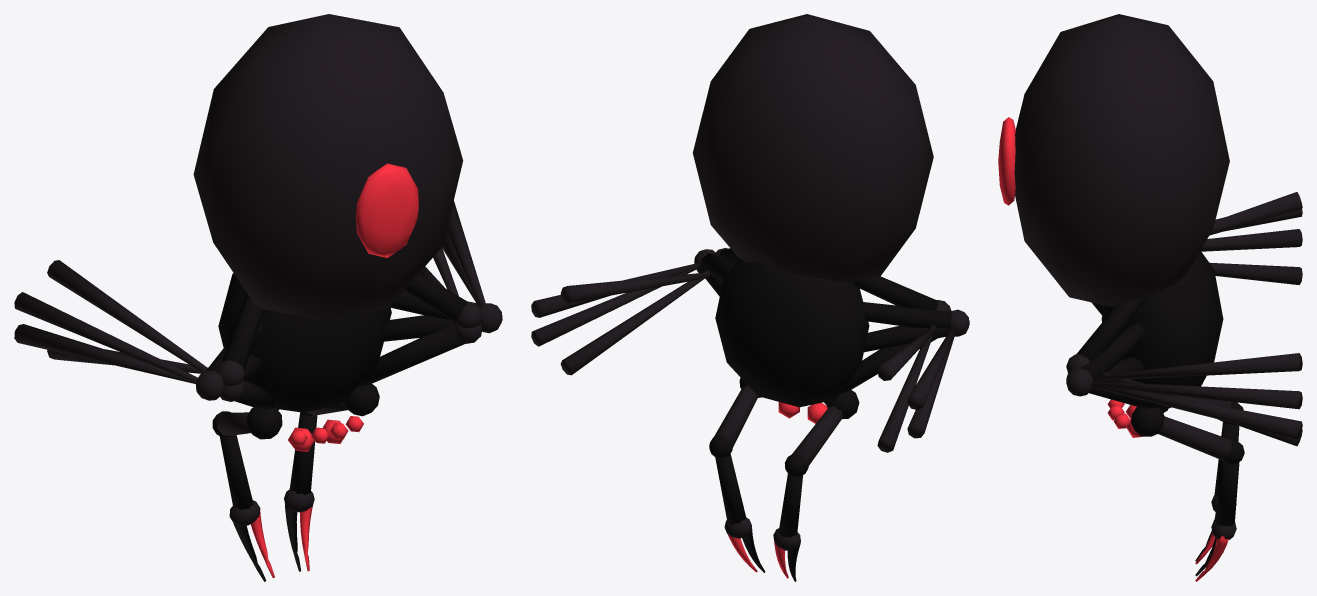
Rendered from shooter-arachnid.glb.
3 views of the same model, side by side, from view 1: azimuth 30°, elevation 25°; view 2: azimuth 150°, elevation 25°; view 3: azimuth 270°, elevation 25° (orthographic). The views are drawn at different scales.
Visible parts, largest first — view 1: Body Mesh, ClawR Elbow Mesh, ClawL Elbow Mesh, LegB 0 Down Mesh, LegA 2 Down Mesh, LegB 4 Down Mesh, LegA 1 Mesh, ClawR Mesh, LegA 6 Mesh, LegB 7 Mesh, Head Mesh, LegB 3 Mesh (+5 smaller); view 2: Body Mesh, ClawL Elbow Mesh, ClawR Elbow Mesh, LegB 7 Down Mesh, LegA 1 Down Mesh, ClawR Mesh, LegA 5 Down Mesh, LegB 4 Mesh, LegA 6 Down Mesh, LegA 6 Mesh, ClawL Mesh, LegA 2 Mesh (+5 smaller); view 3: Body Mesh, LegB 3 Down Mesh, LegA 5 Down Mesh, LegA 1 Down Mesh, ClawL Elbow Mesh, ClawL Mesh, LegB 4 Down Mesh, LegB 7 Mesh, LegB 0 Down Mesh, LegA 6 Down Mesh, LegA 5 Mesh, ClawR Elbow Mesh (+5 smaller).
Part boxes in pixels (x1,y1,x2,y2): Body Mesh: [193, 14, 463, 412]; ClawR Elbow Mesh: [212, 411, 274, 581]; ClawL Elbow Mesh: [284, 412, 317, 571]; LegB 0 Down Mesh: [47, 260, 206, 372]; LegA 2 Down Mesh: [14, 292, 197, 381]; LegB 4 Down Mesh: [14, 324, 196, 383]; LegA 1 Mesh: [358, 323, 464, 386]; ClawR Mesh: [217, 407, 282, 439]; LegA 6 Mesh: [221, 293, 264, 370]; LegB 7 Mesh: [404, 273, 467, 322]; Head Mesh: [288, 416, 363, 451]; LegB 3 Mesh: [383, 315, 454, 341]; Body Mesh: [693, 14, 933, 407]; ClawL Elbow Mesh: [709, 435, 765, 572]; ClawR Elbow Mesh: [773, 454, 808, 581]; LegB 7 Down Mesh: [560, 270, 710, 375]; LegA 1 Down Mesh: [560, 272, 710, 303]; ClawR Mesh: [792, 390, 859, 466]; LegA 5 Down Mesh: [531, 267, 698, 346]; LegB 4 Mesh: [862, 302, 951, 328]; LegA 6 Down Mesh: [877, 325, 935, 452]; LegA 6 Mesh: [853, 276, 938, 310]; ClawL Mesh: [714, 377, 761, 447]; LegA 2 Mesh: [864, 326, 950, 352]; Body Mesh: [998, 14, 1229, 410]; LegB 3 Down Mesh: [1091, 381, 1302, 409]; LegA 5 Down Mesh: [1091, 385, 1302, 439]; LegA 1 Down Mesh: [1101, 353, 1302, 380]; ClawL Elbow Mesh: [1195, 440, 1244, 581]; ClawL Mesh: [1131, 407, 1231, 460]; LegB 4 Down Mesh: [1201, 229, 1302, 251]; LegB 7 Mesh: [1077, 296, 1147, 361]; LegB 0 Down Mesh: [1209, 192, 1302, 235]; LegA 6 Down Mesh: [1209, 262, 1302, 285]; LegA 5 Mesh: [1081, 323, 1144, 381]; ClawR Elbow Mesh: [1195, 402, 1243, 564].
Size of the model in its own units: 1.63 by 2.1 by 1.05.
2 materials, 2 textured.
